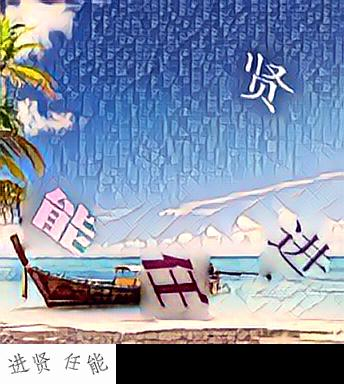character: (27, 184, 103, 259), (138, 250, 216, 314), (234, 47, 301, 115), (263, 215, 331, 282)
